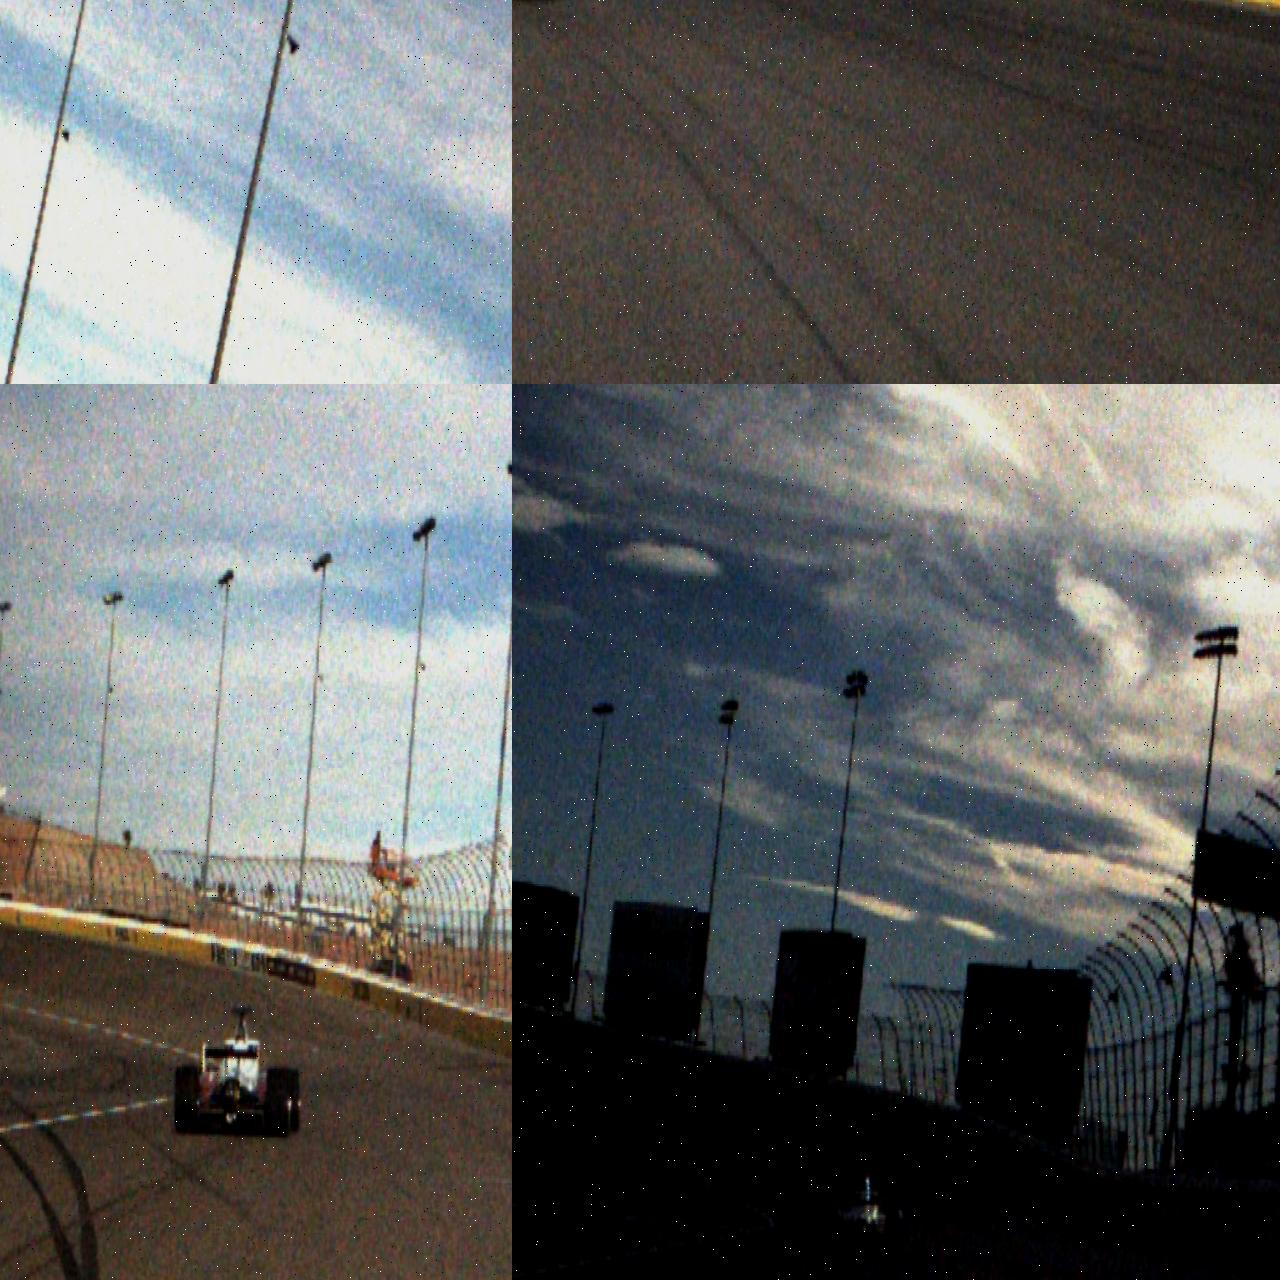AV: (175, 1006, 302, 1137), (823, 1171, 904, 1259)
Wheel: (266, 1068, 292, 1137), (175, 1065, 199, 1135), (282, 1070, 302, 1133), (886, 1210, 905, 1259), (824, 1208, 840, 1257)
